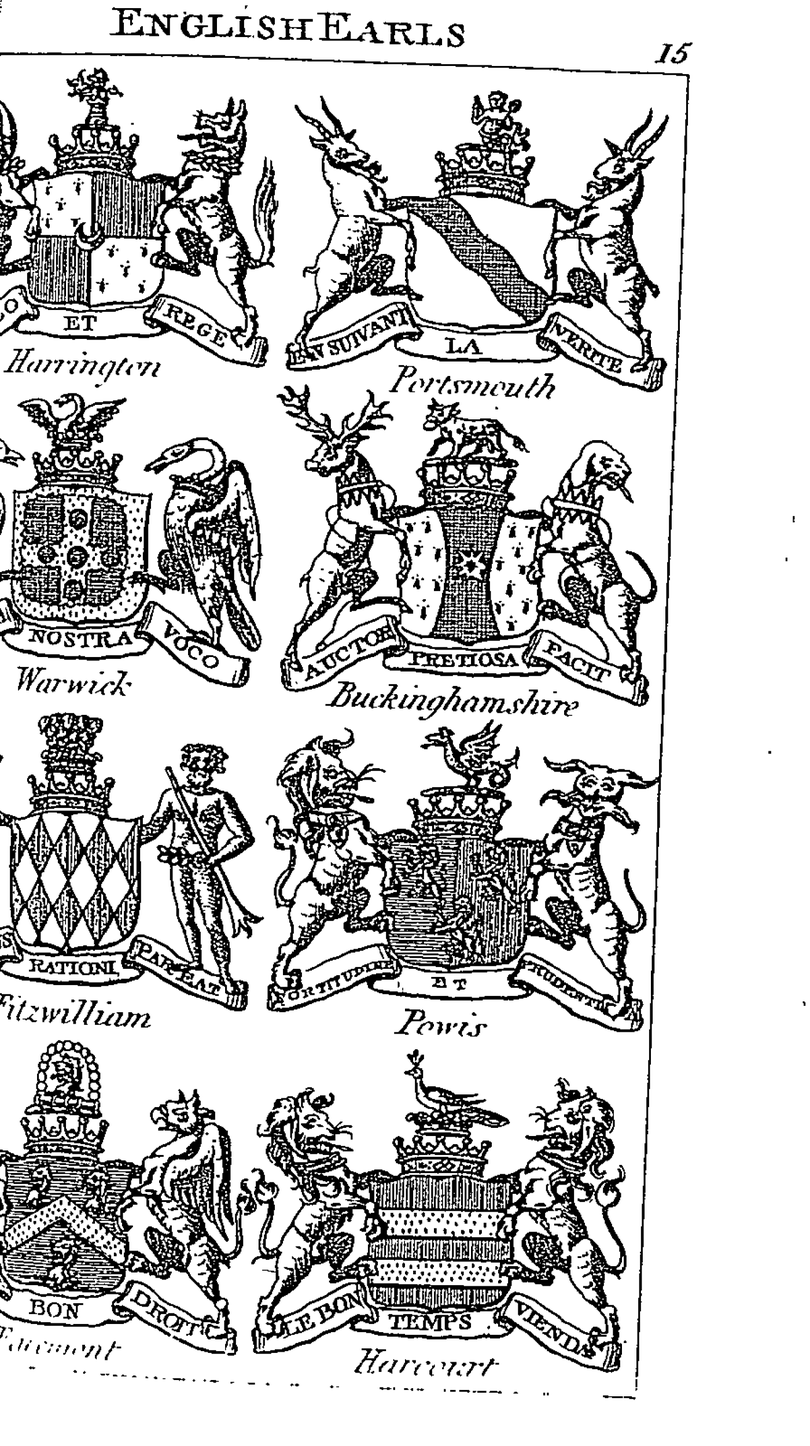coat_of_arms: (266, 387, 667, 735), (279, 65, 672, 405), (248, 1047, 628, 1391), (259, 721, 654, 1046), (1, 56, 269, 383), (5, 701, 255, 1040), (3, 382, 259, 705), (3, 1038, 244, 1371)
